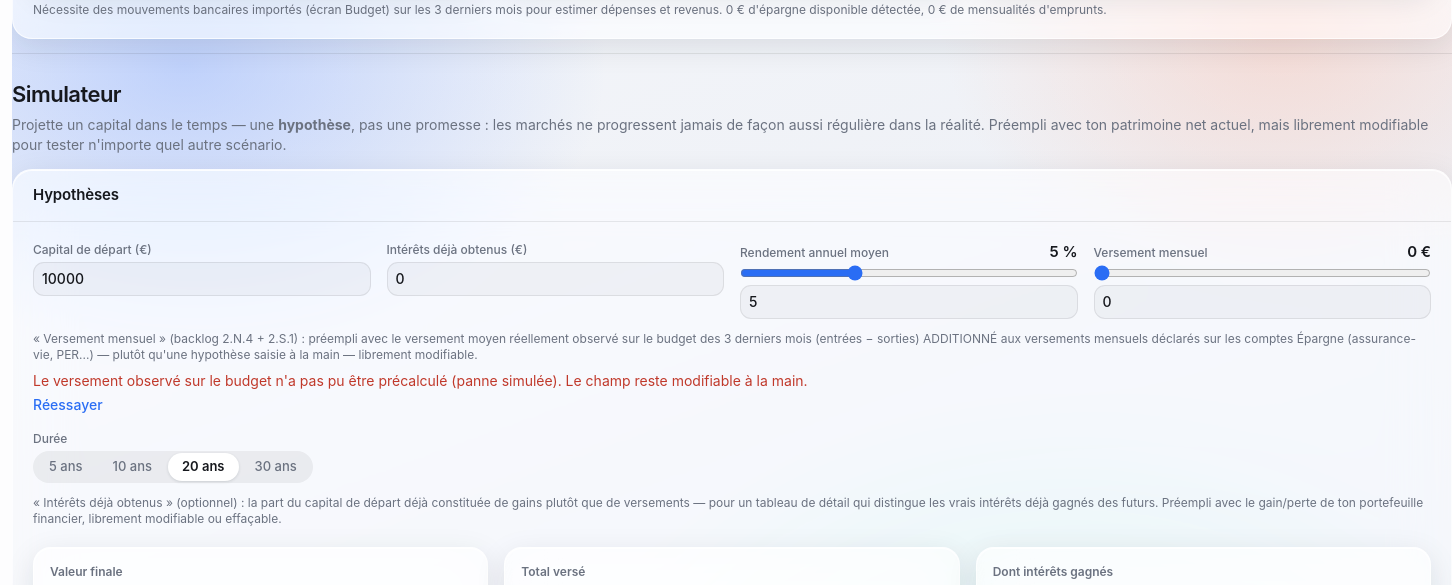
Scenario: SimulateurPage › Versement mensuel suggéré (backlog 2.N.4) › un échec de préchargement du versement observé n'empêche pas d'utiliser le calculateur, avec action de reprise
This screenshot has width=1452, height=585.
(page scrolled)
Expected: the text "versement observé sur le budget n'a pas pu être précalculé" is shown, [33,372,808,390]
Expected: the number field named "Versement mensuel (€)" is enabled, [1094,286,1431,320]
Click the button "Réessayer" at [68, 406], box [33,396,103,416]
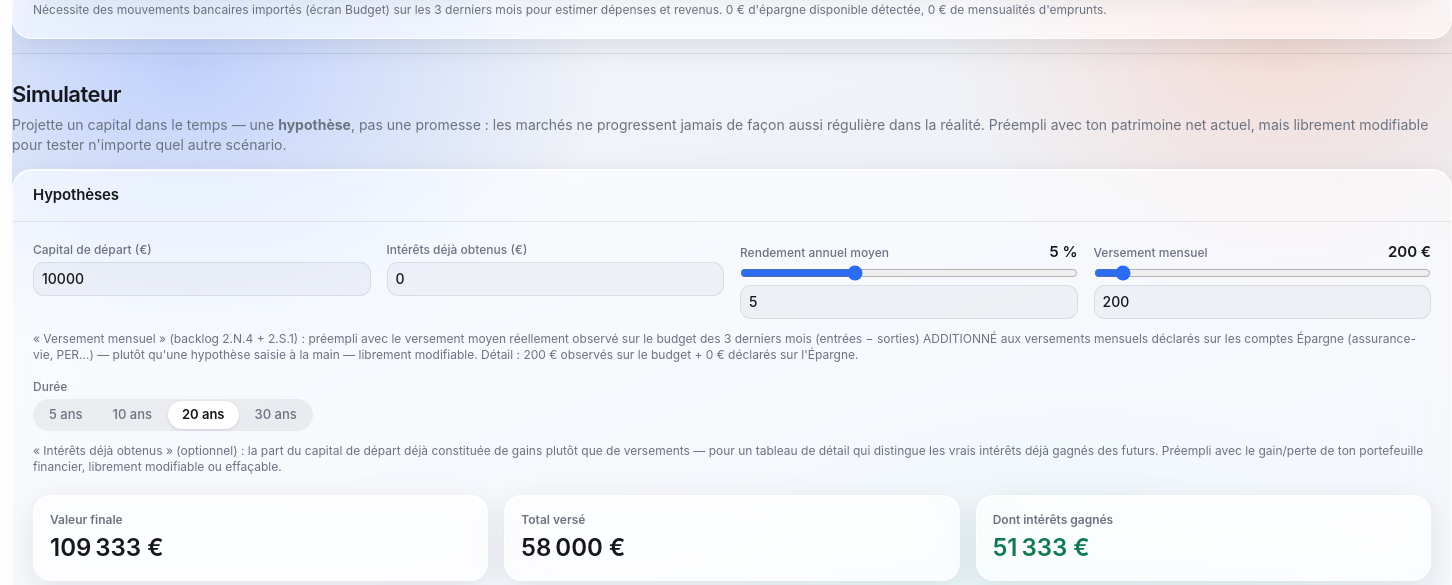
Expected: the number field named "Versement mensuel (€)" holds "200", [1094,286,1431,320]
